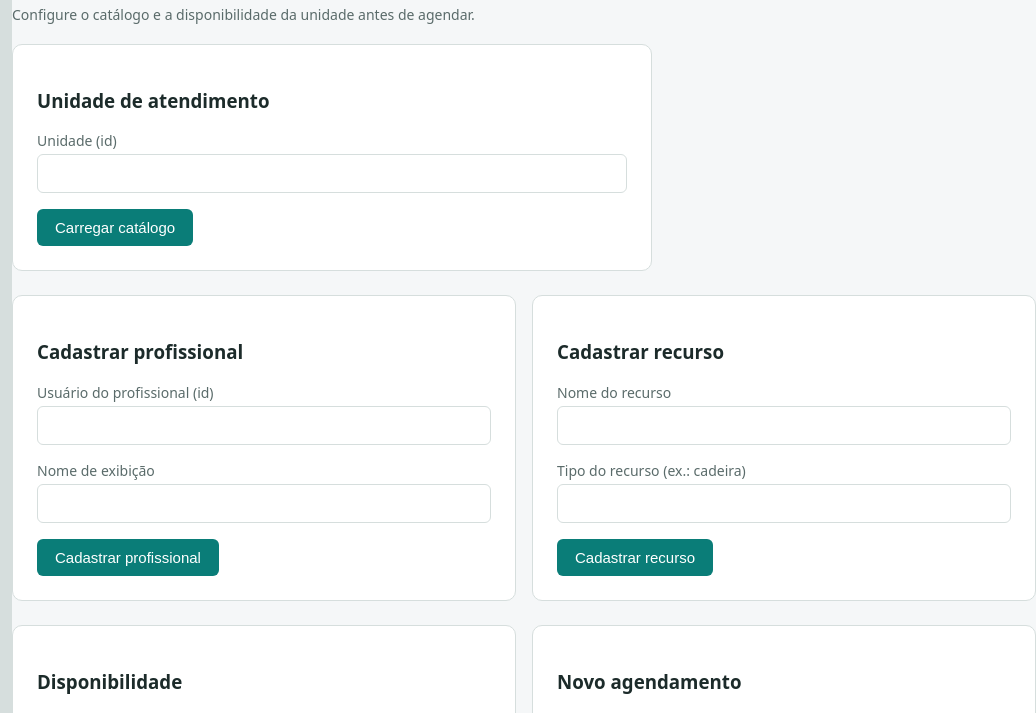
Scenario: SchedulePage › carrega o catálogo e agenda com profissional e recurso selecionados
This screenshot has width=1036, height=713.
Type "11111111-1111-4111-8111-111111111111" into the field labelled "Unidade (id)" at (332, 174), box [37,154,627,193]
Click the button "Carregar catálogo" at (115, 228), box [37,209,193,246]
(page scrolled)
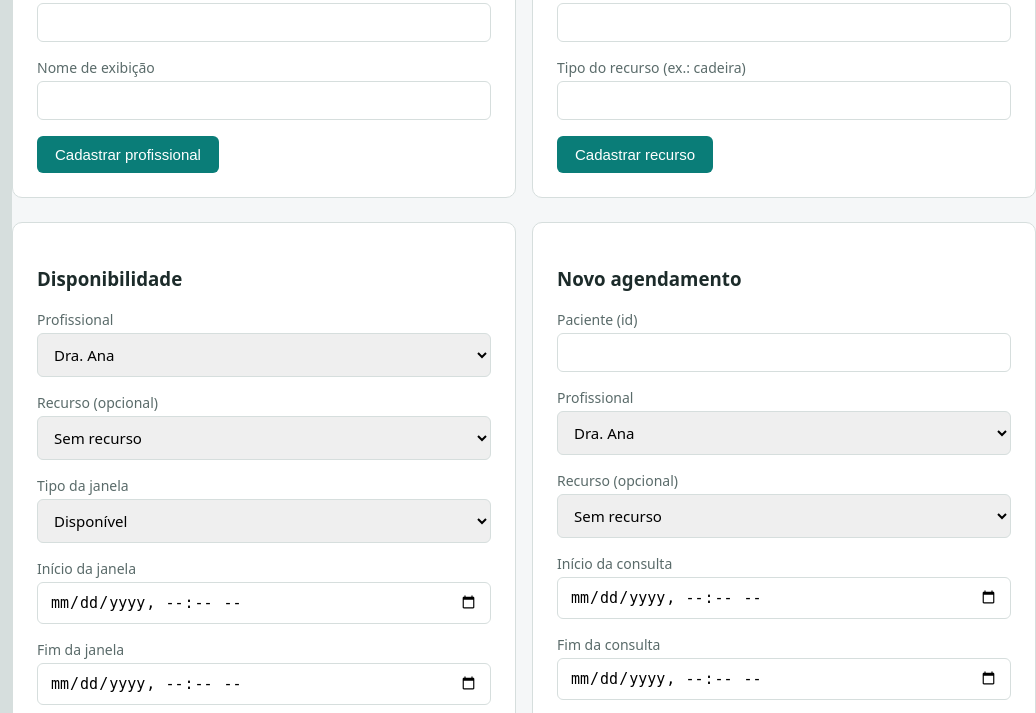
Type "55555555-5555-4555-8555-555555555555" into the field labelled "Paciente (id)" at (784, 352), box [557,333,1011,372]
Select "Dra. Ana" in the dropdown labelled "Profissional" below "Paciente (id)" at (784, 433), box [557,411,1011,455]
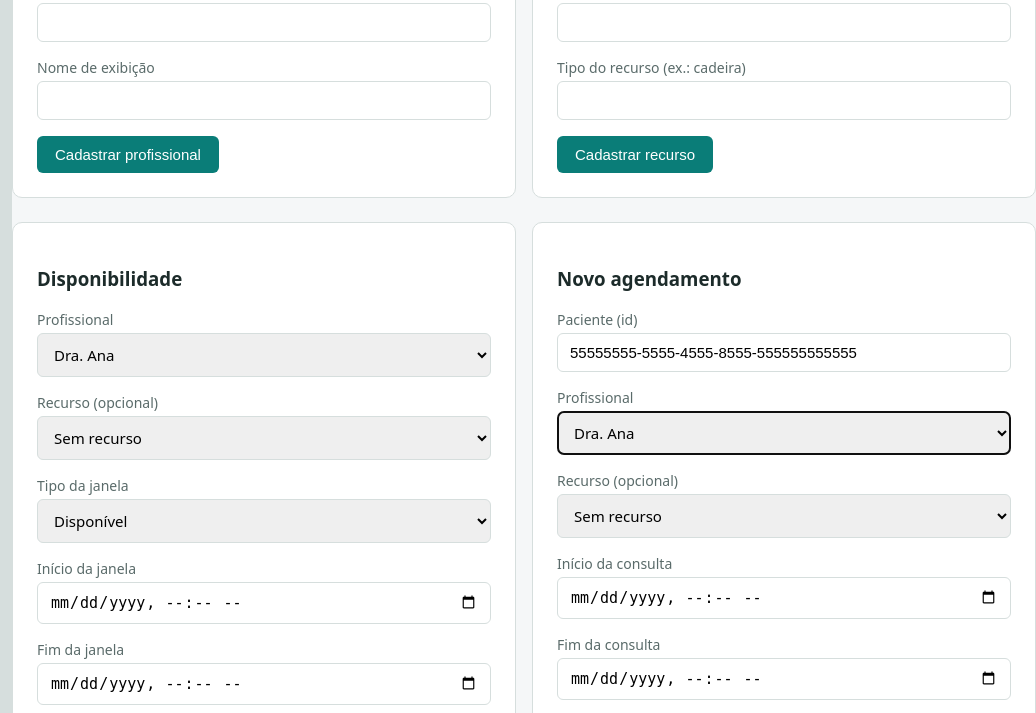
Select "Cadeira 1 · chair" in the dropdown labelled "Recurso (opcional)" below "Paciente (id)" at (784, 516), box [557,494,1011,538]
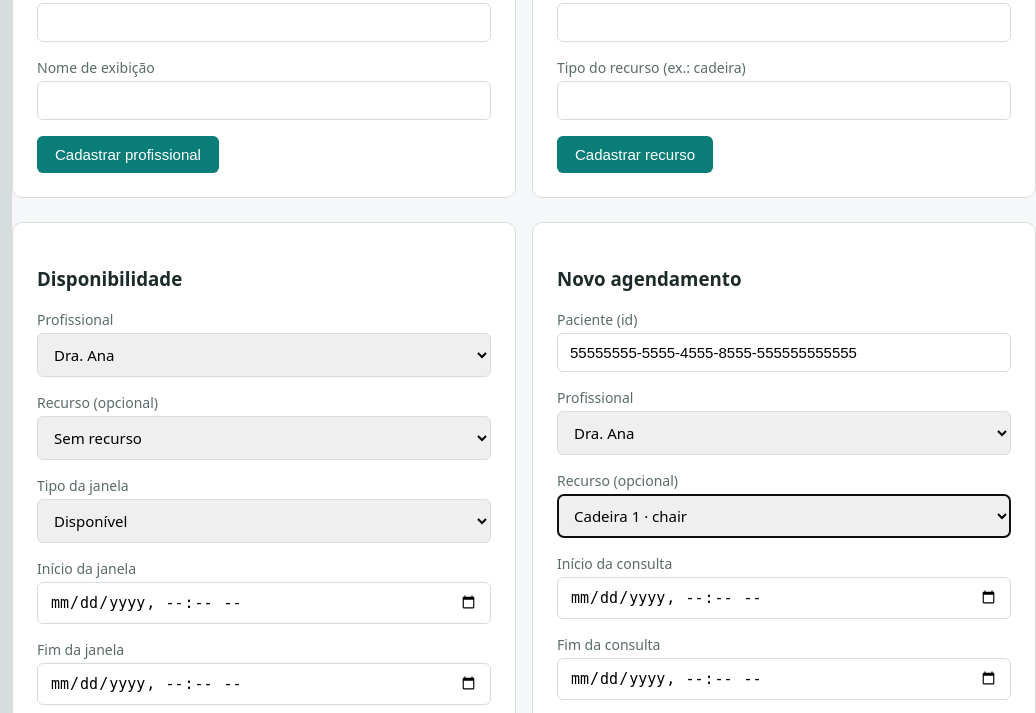
Type "2026-09-20T09:00" into the field labelled "Início da consulta" at (784, 598), box [557,577,1011,619]
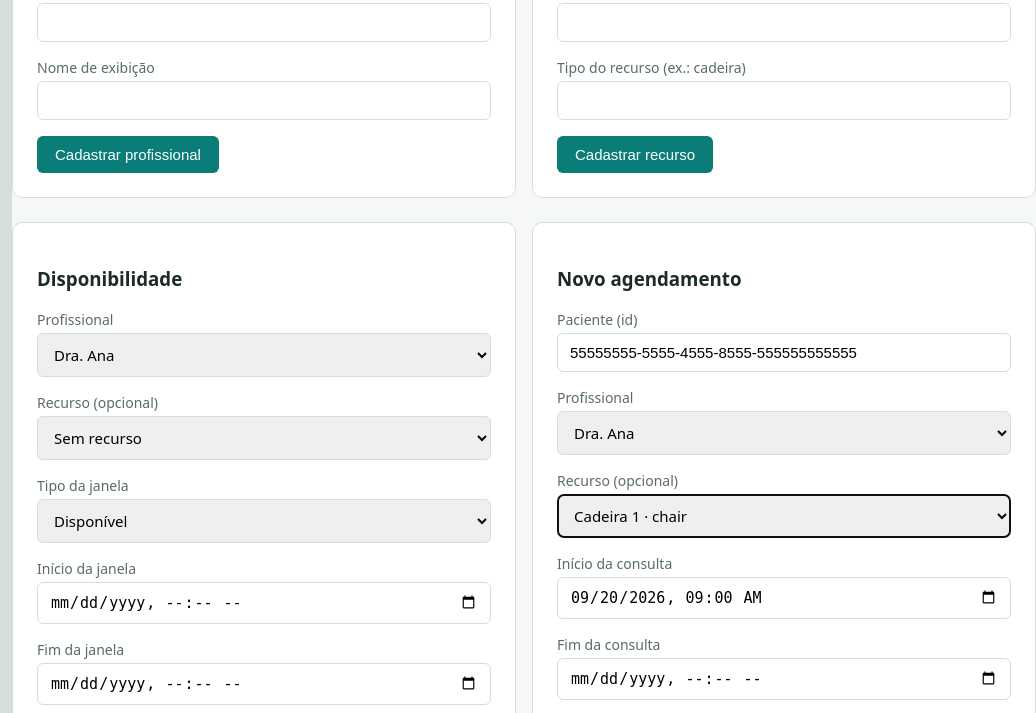
Type "2026-09-20T10:00" into the field labelled "Fim da consulta" at (784, 679), box [557,658,1011,700]
(page scrolled)
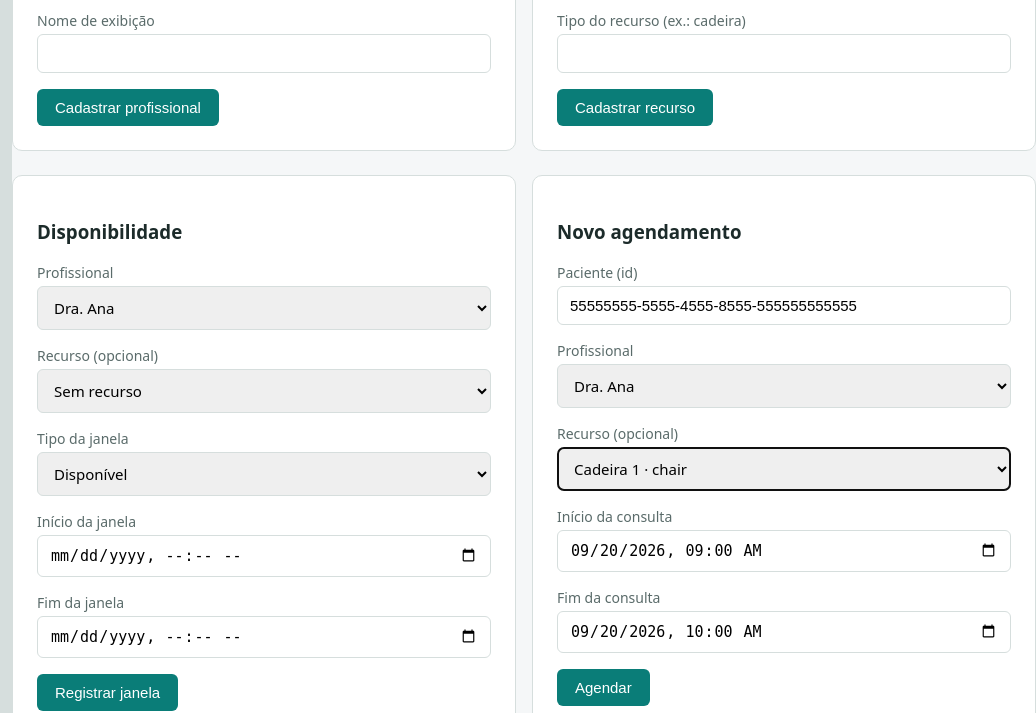
Click the button "Agendar" at (603, 687), box [557,669,650,706]
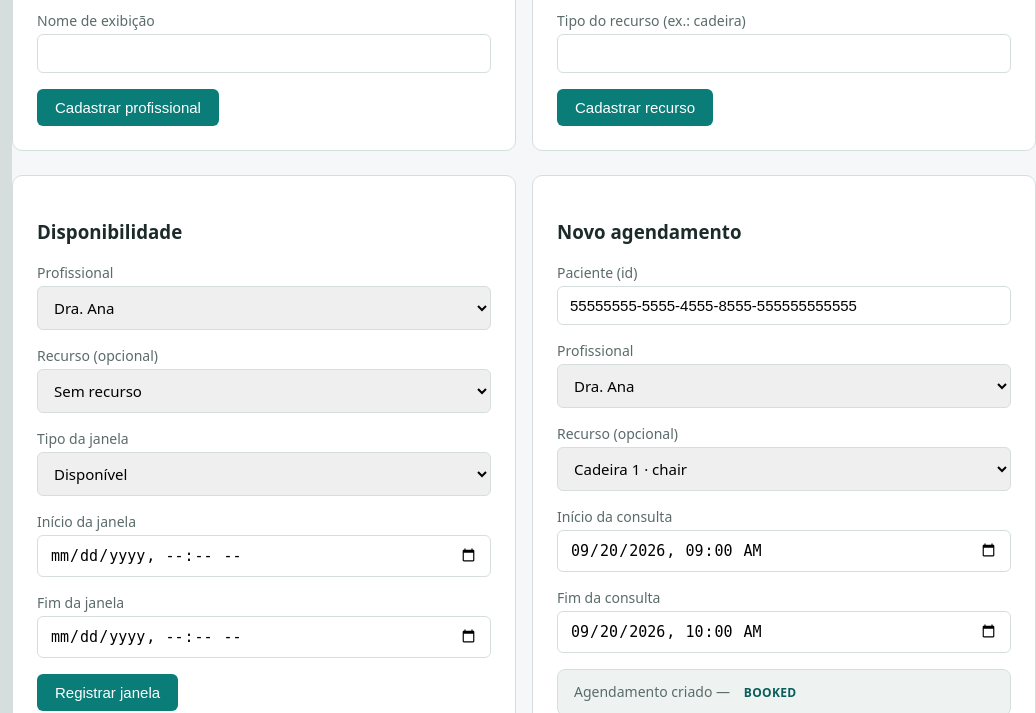
expect the text "booked" is shown: met, box [734,682,807,703]
